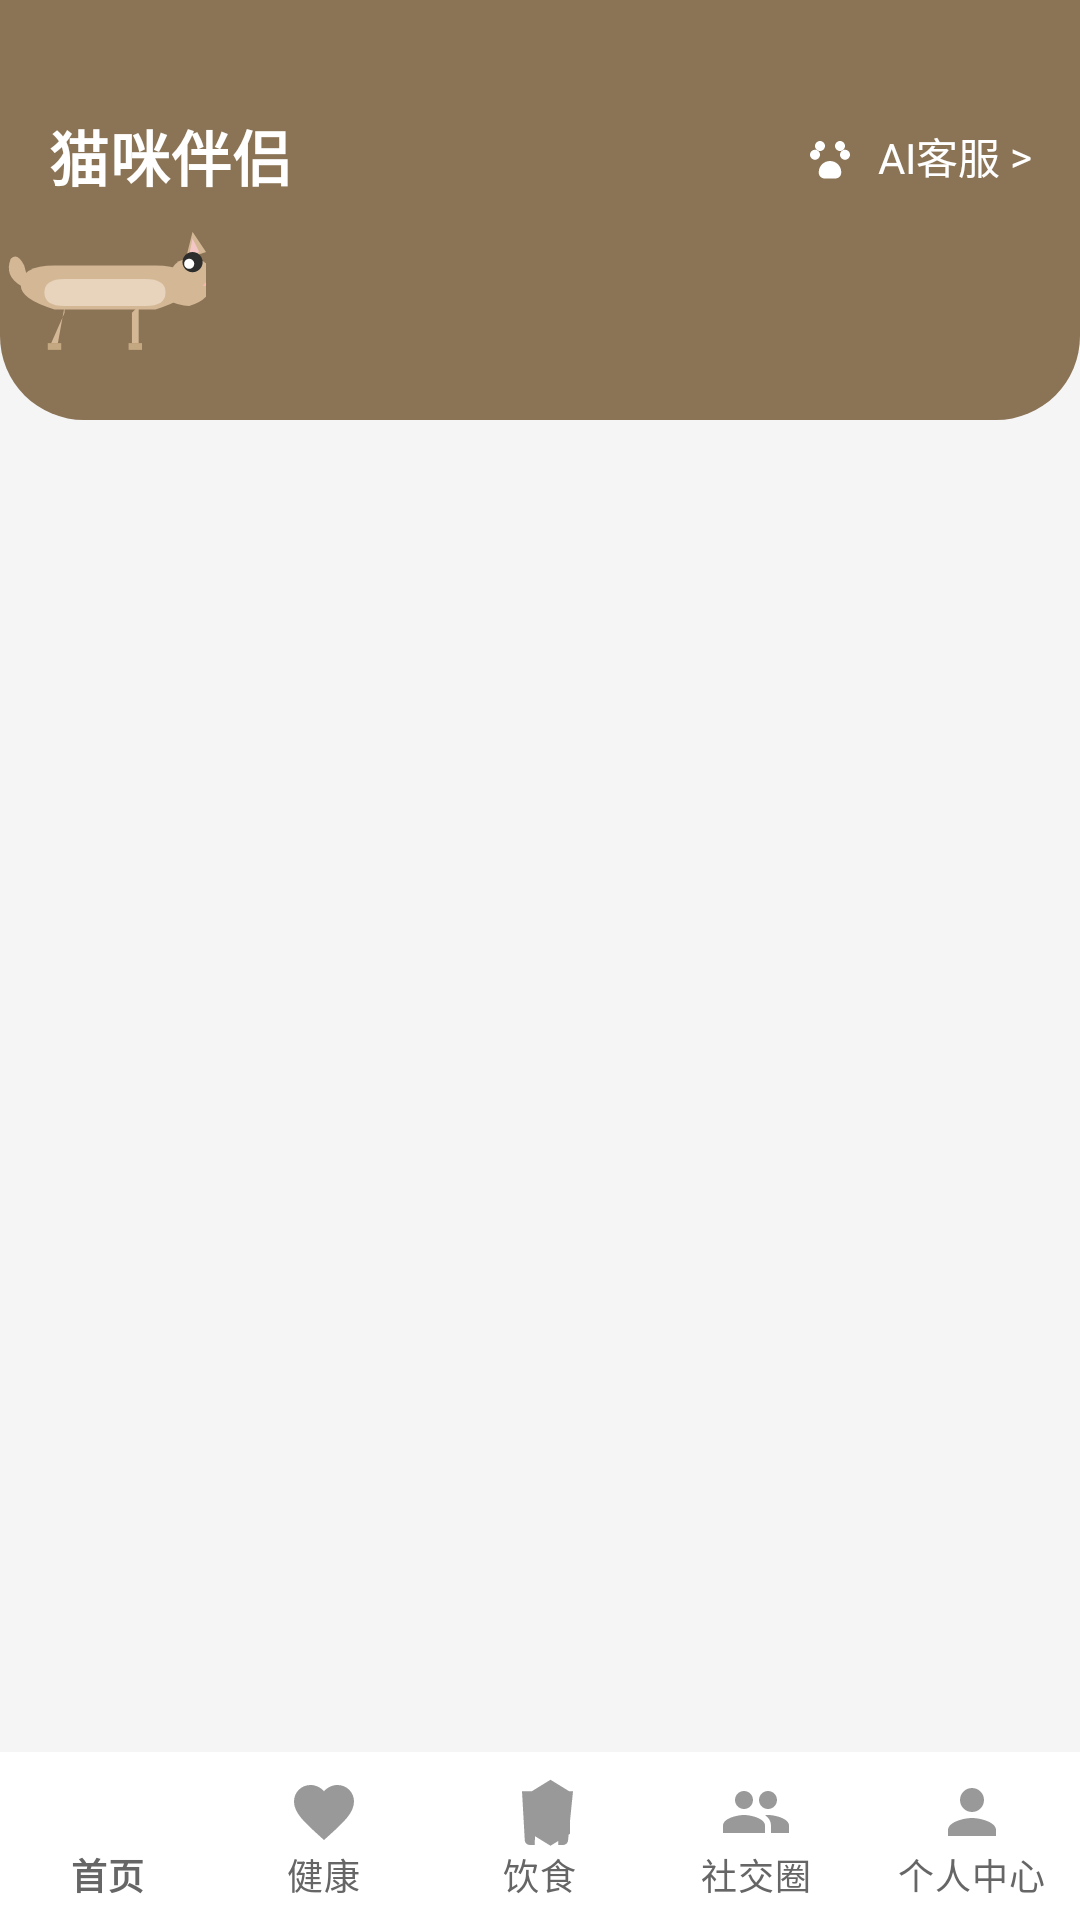

Named icons in this screenshot (1080 × 1920) and their centers, (x,y):
paw: (830,160)
走路的小猫: (107,291)
